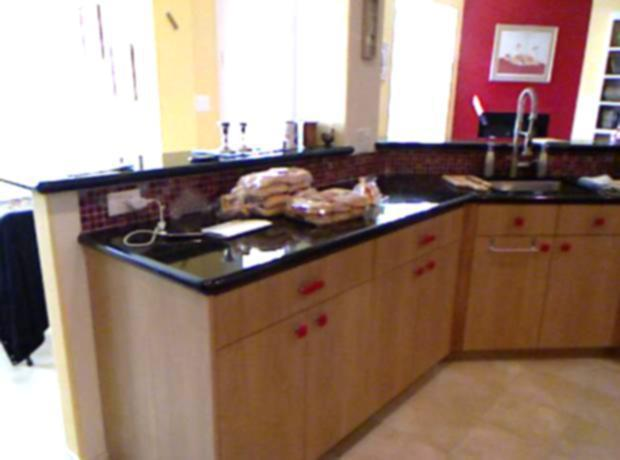Otro Obstaculo: (485, 86, 567, 195)
